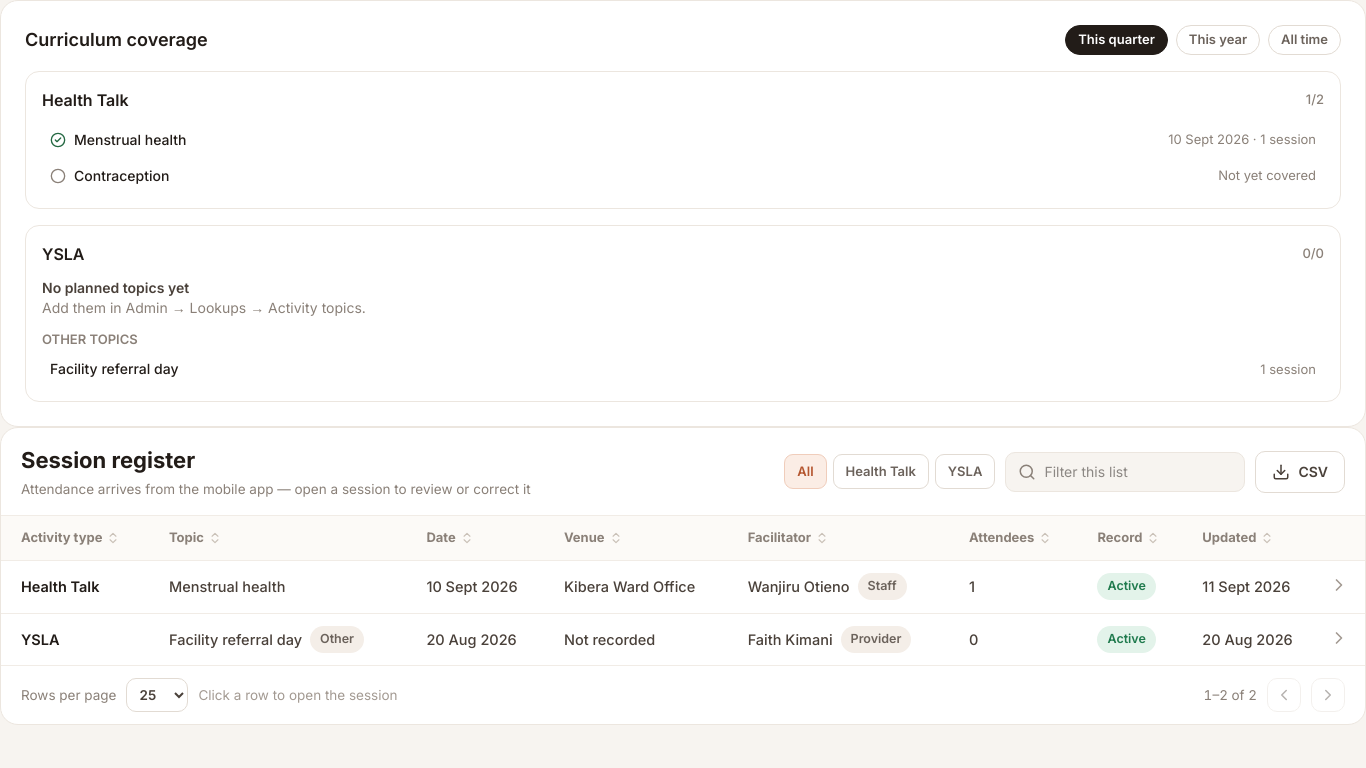
Test: curriculum coverage and session register › asks the API for an activity type and for a clicked topic, and clears them
Step 1. Click the button "YSLA" → (965, 472), box 935,454 -> 995,489
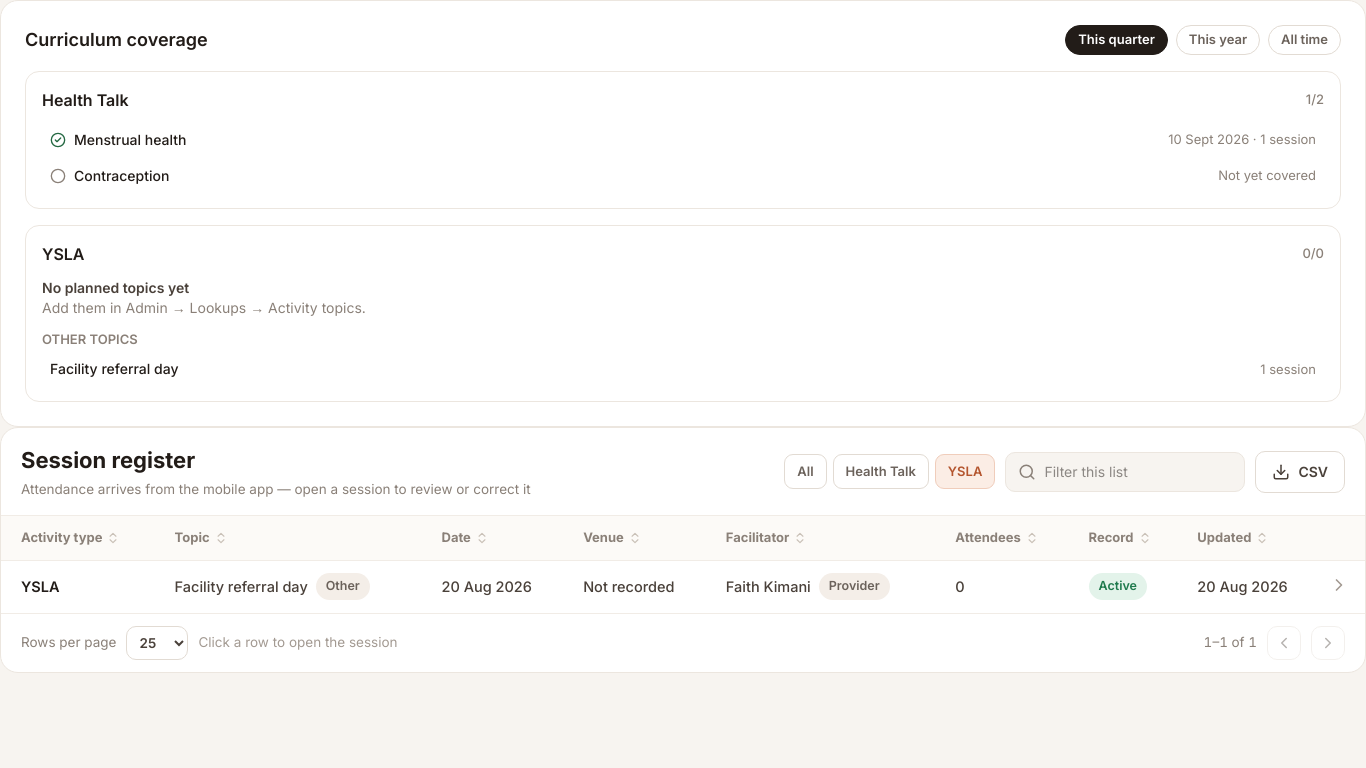
Step 2. Click the button "All" → (805, 472), box 784,454 -> 827,489
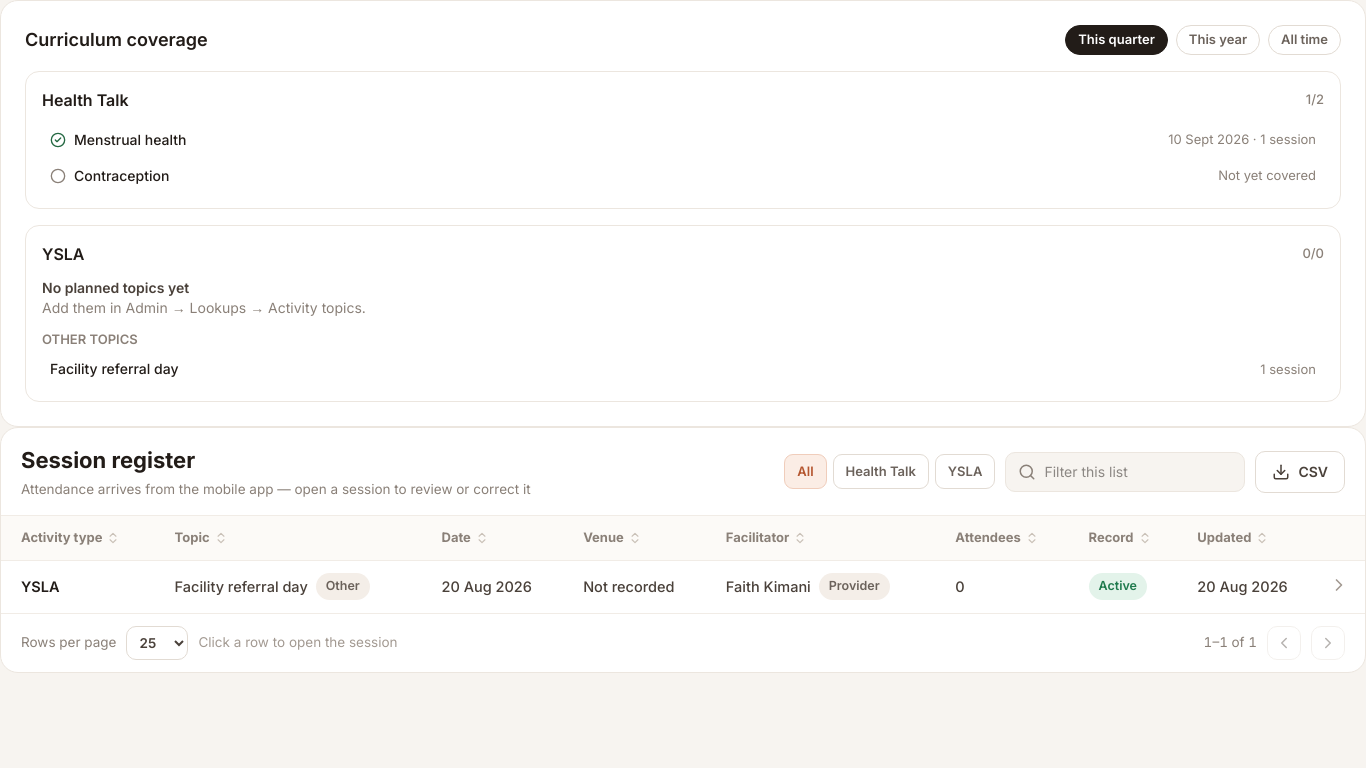
Step 3. Click the button with aria-label "Show sessions on Menstrual health" → (130, 139), box 42,124 -> 1324,156
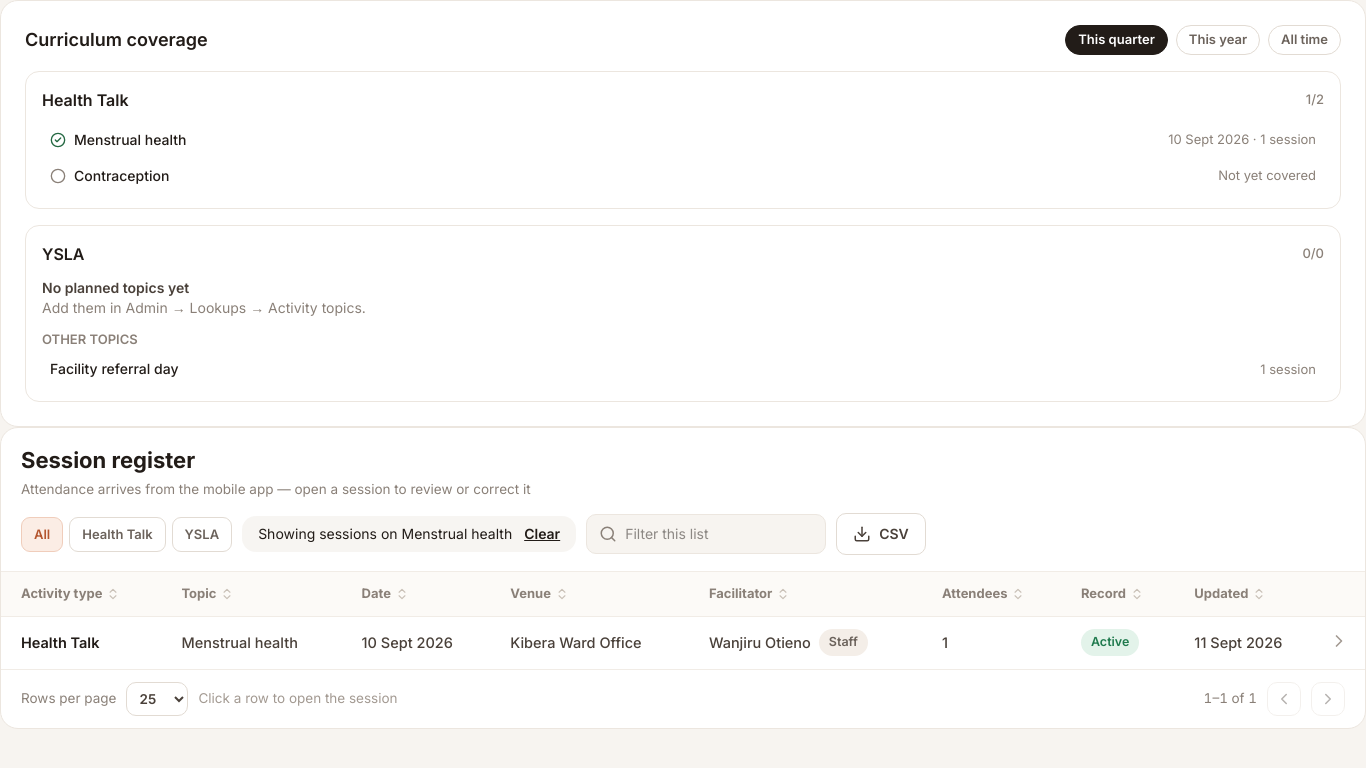
Expected: the number of rows is 2, 1,572 -> 1365,616; 1,616 -> 1365,668
A topic written in free text filters on its text, not a planned topic id.
Step 4. Click the button "Clear" → (542, 534), box 524,524 -> 560,544
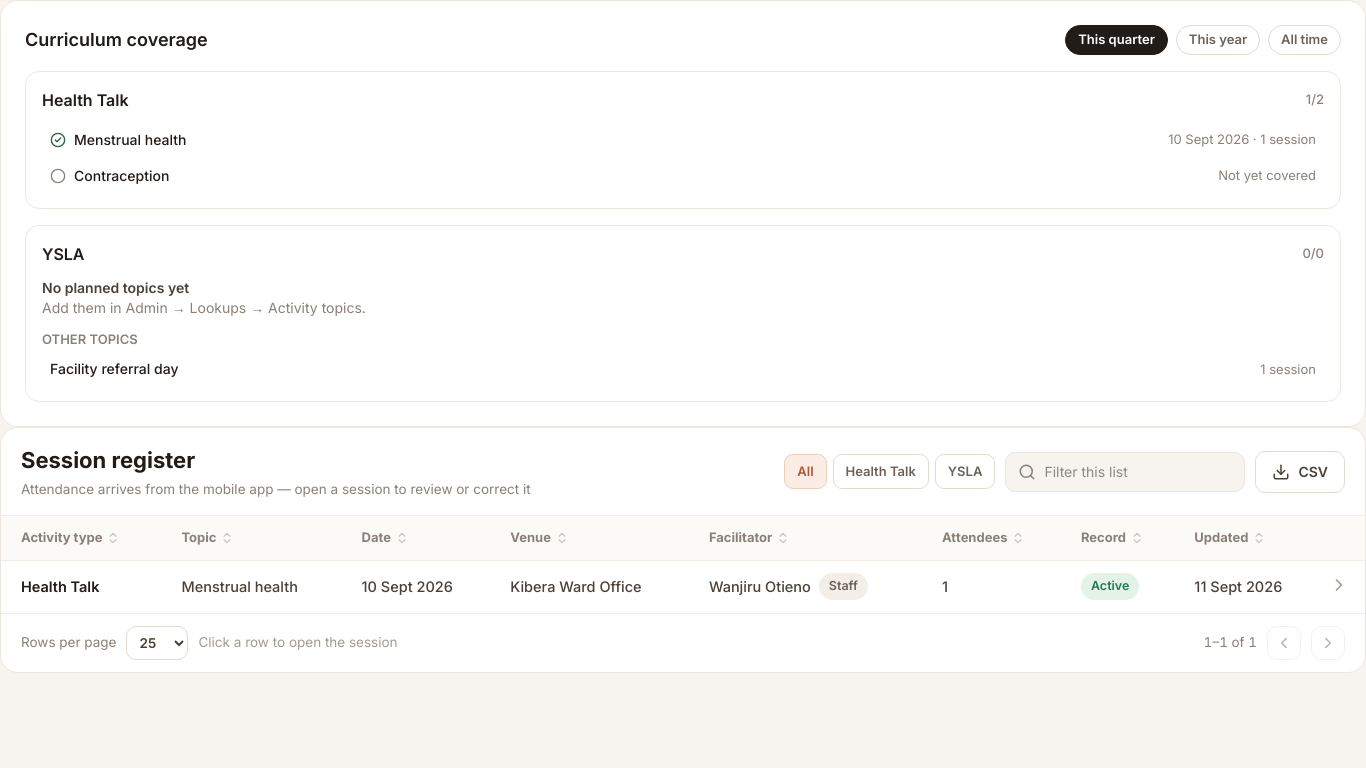
Step 5. Click the button with aria-label "Show sessions on Facility referral day" → (114, 368), box 42,353 -> 1324,385
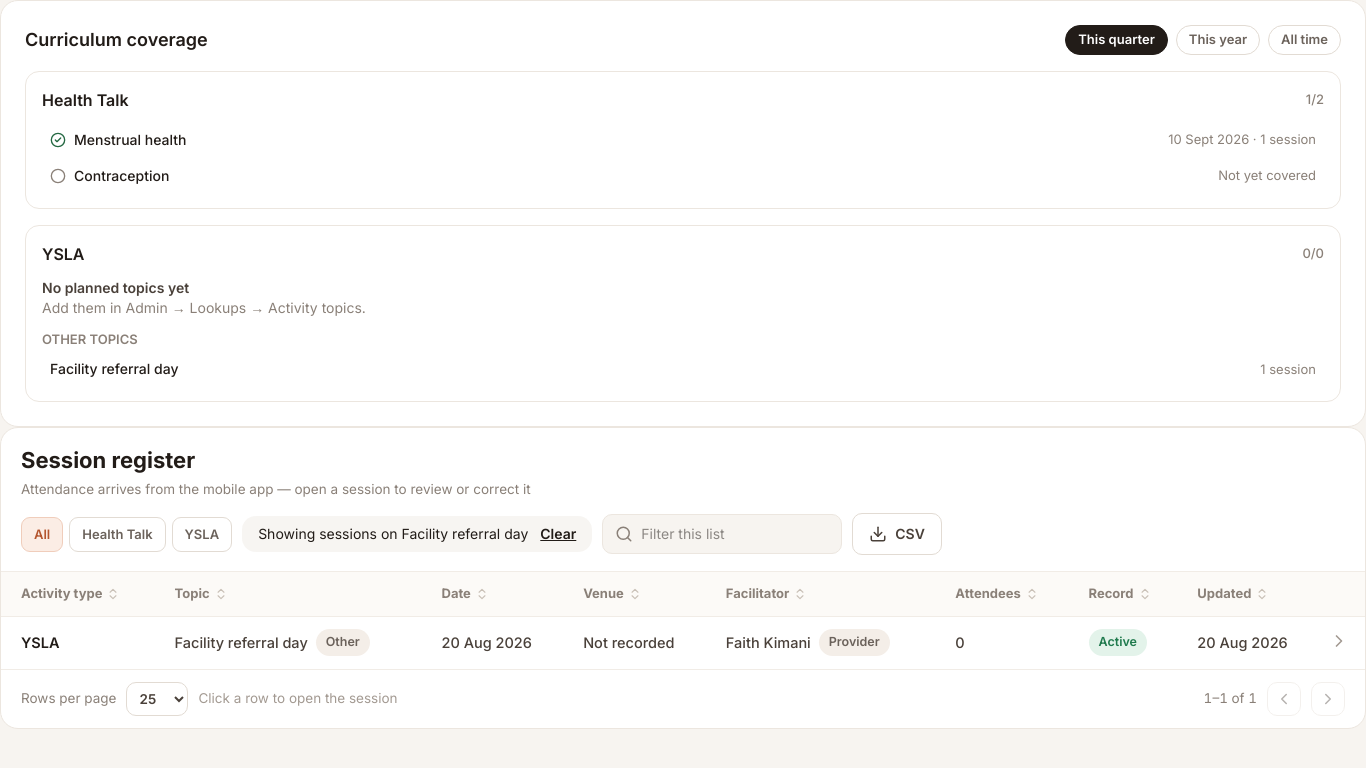
Step 6. Click the button "Clear" → (558, 534), box 540,524 -> 576,544
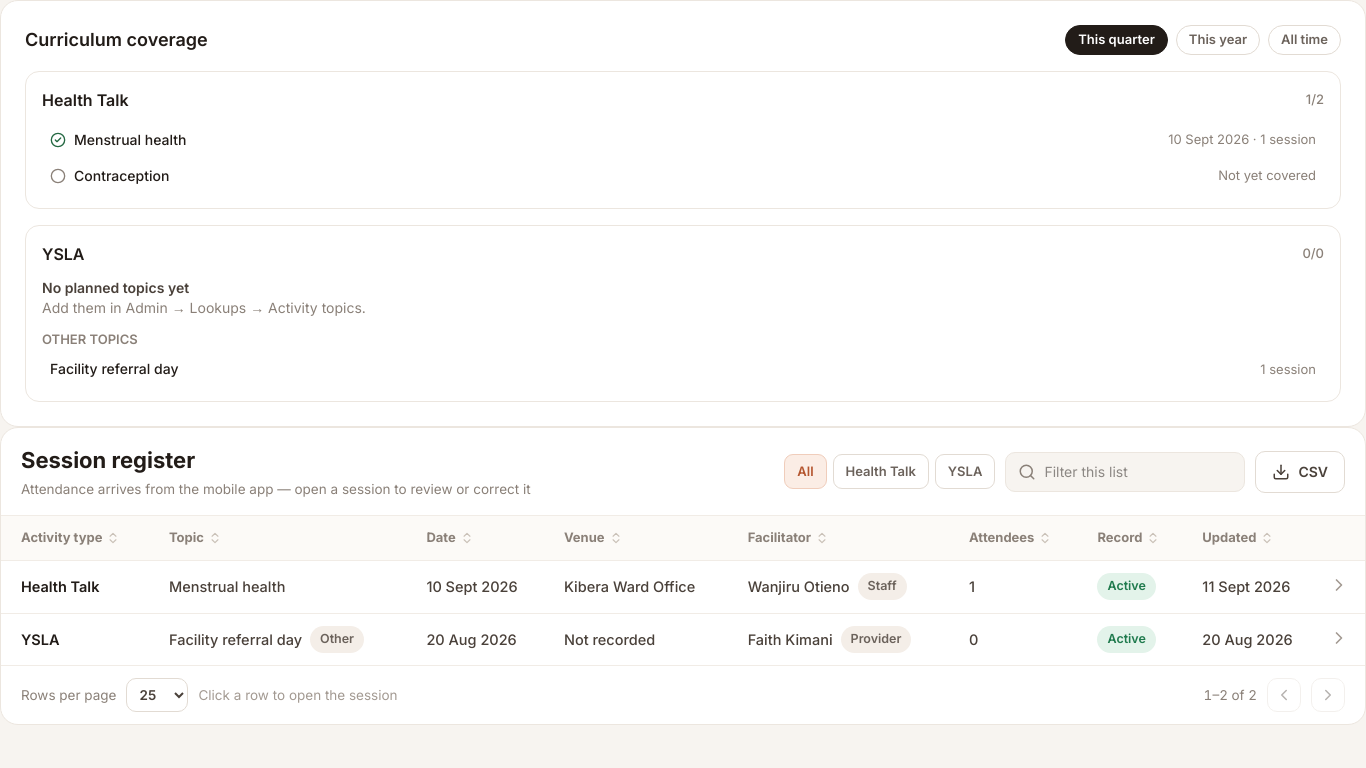
Now the button named "Open Menstrual health, 10 Sept 2026" is shown, box 1327,573 -> 1351,597
